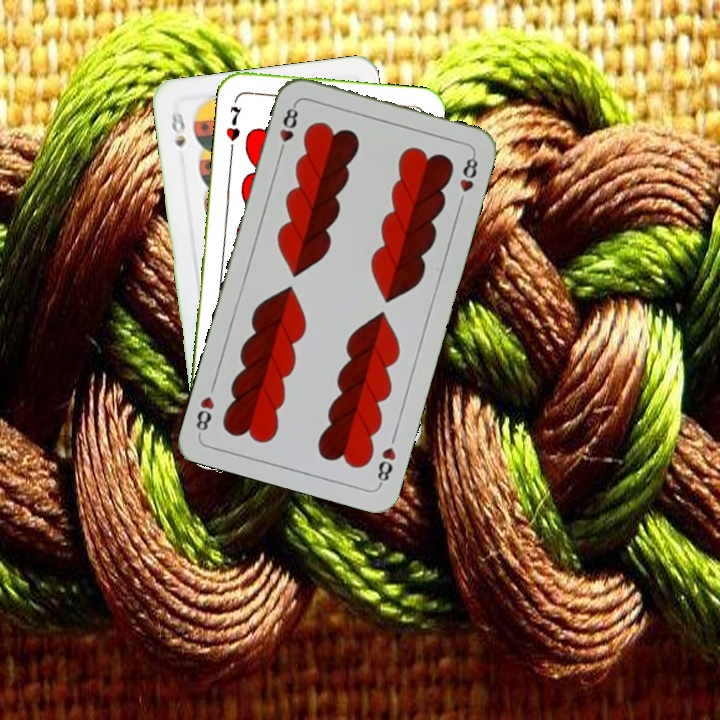H7: (221, 102, 244, 144)
H8: (275, 100, 301, 158), (373, 443, 399, 488)
S8: (167, 105, 188, 150)
